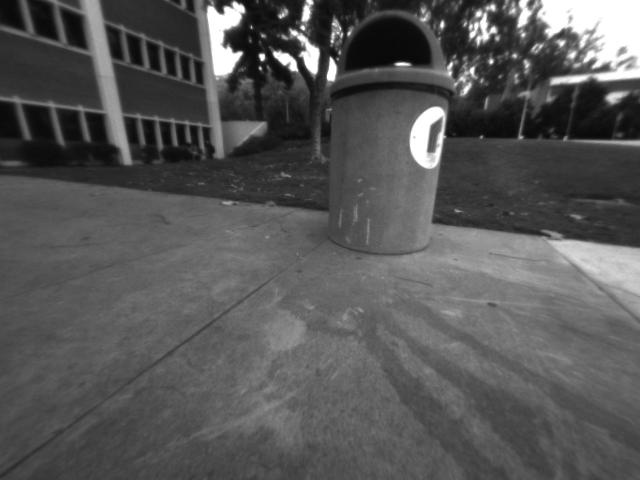trashcan: (328, 9, 454, 262)
